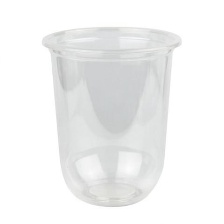glass: (29, 18, 187, 210)
